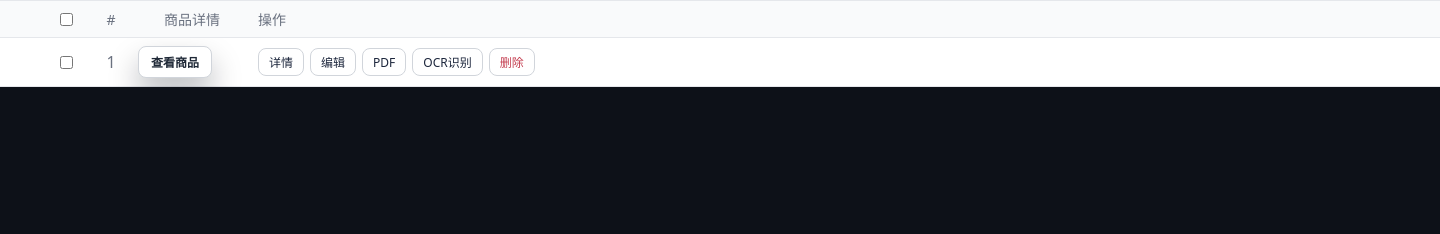
Scenario: WorkspaceTable › renders a dedicated product detail submenu with a product table
expect the text "商品详情" is shown: met, box [164, 9, 220, 29]
What coordinates should you click on to do the following:
click the button "查看商品"
I would click on:
 (175, 62)
Its box is [138, 46, 212, 78].
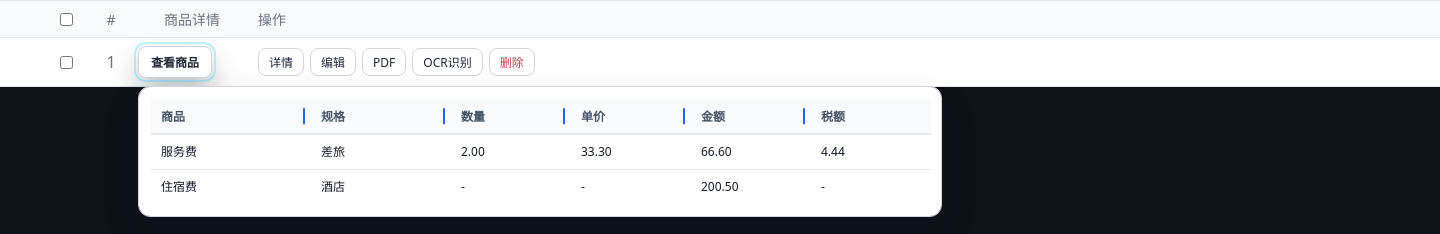
expect the menu named "商品购买详情" is shown: met, box [138, 86, 942, 217]
expect the table named "商品购买详情表格" is shown: met, box [151, 99, 931, 204]
expect the column heading "商品" is shown: met, box [151, 99, 311, 134]
